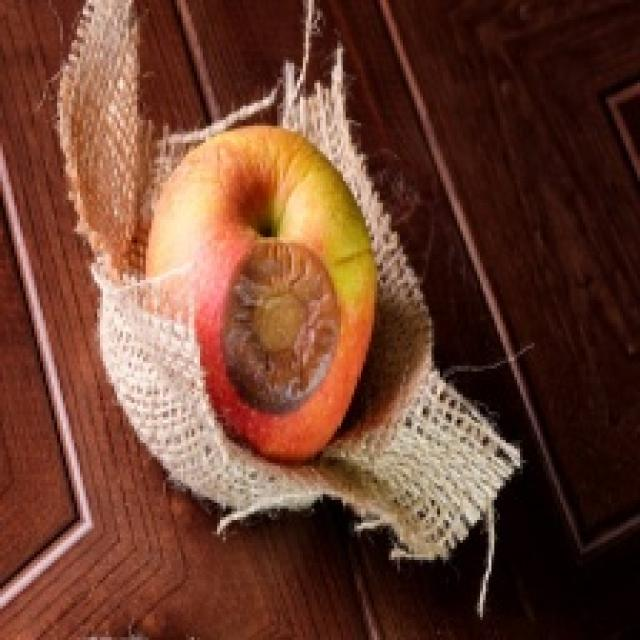rotten_apple: (175, 125, 376, 462)
